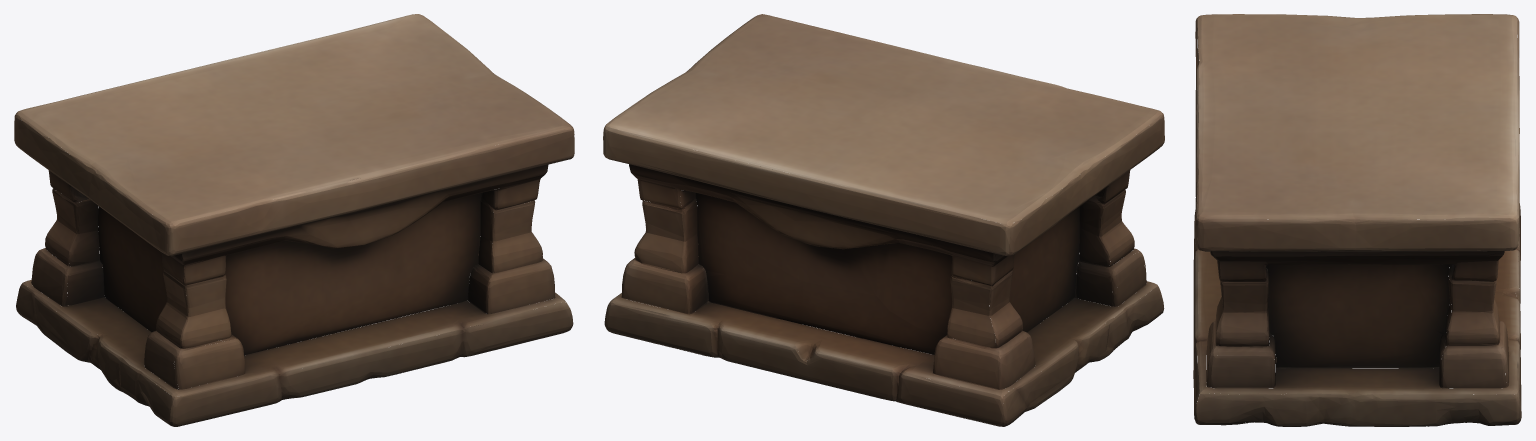
Rendered from stone_table.glb.
3 views of the same model, side by side, from view 1: azimuth 30°, elevation 25°; view 2: azimuth 150°, elevation 25°; view 3: azimuth 270°, elevation 25° (orthographic). The views are drawn at different scales.
Visible parts, largest first — view 1: world; view 2: world; view 3: world.
Boxes of the visible parts, <box> form: world: <box>14,14,574,426</box>; world: <box>603,14,1164,426</box>; world: <box>1193,14,1521,426</box>.
Bounding box in the file's own units: 0.9994 × 0.4813 × 0.6722.
1 material, 1 textured.
